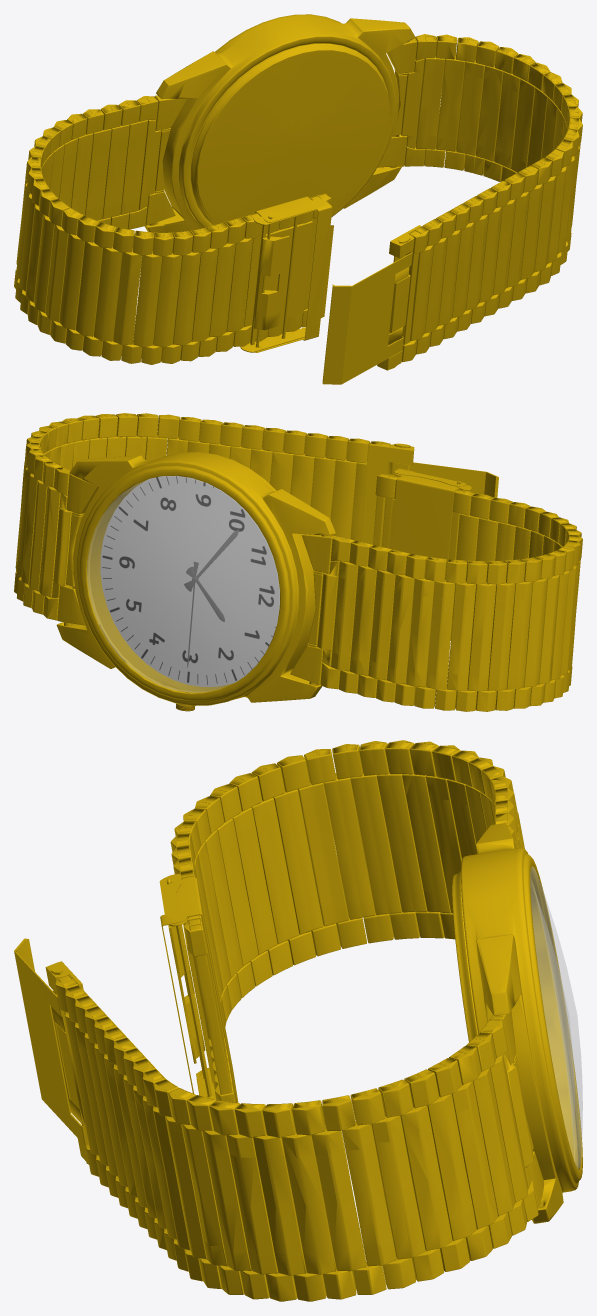
3 views of the same model, one above another, from view 1: azimuth 30°, elevation 25°; view 2: azimuth 150°, elevation 25°; view 3: azimuth 270°, elevation 25° (orthographic). The views are drawn at different scales.
Parts seen in each view (by area): view 1: pPlane2, polySurface281, polySurface322, polySurface323; view 2: pPlane2, polySurface314, polySurface281, polySurface321, polySurface323, polySurface320; view 3: polySurface281, pPlane2, polySurface323, polySurface314, polySurface322.
Boxes of the visible parts, x1,y1,x2,y2 form: pPlane2: (14,95,333,364); polySurface281: (322,34,582,384); polySurface322: (191,43,389,225); polySurface323: (144,14,415,235); pPlane2: (290,468,582,711); polySurface314: (87,476,279,692); polySurface281: (14,413,498,625); polySurface321: (100,475,279,686); polySurface323: (56,452,335,705); polySurface320: (184,529,238,667); polySurface281: (14,938,543,1301); pPlane2: (159,740,524,1102); polySurface323: (461,823,582,1223); polySurface314: (530,867,582,1168); polySurface322: (452,871,478,1042).
Size of the model in its own units: 0.2037 by 0.0874 by 0.1371.
Materials: 5 (1 with a texture image).
